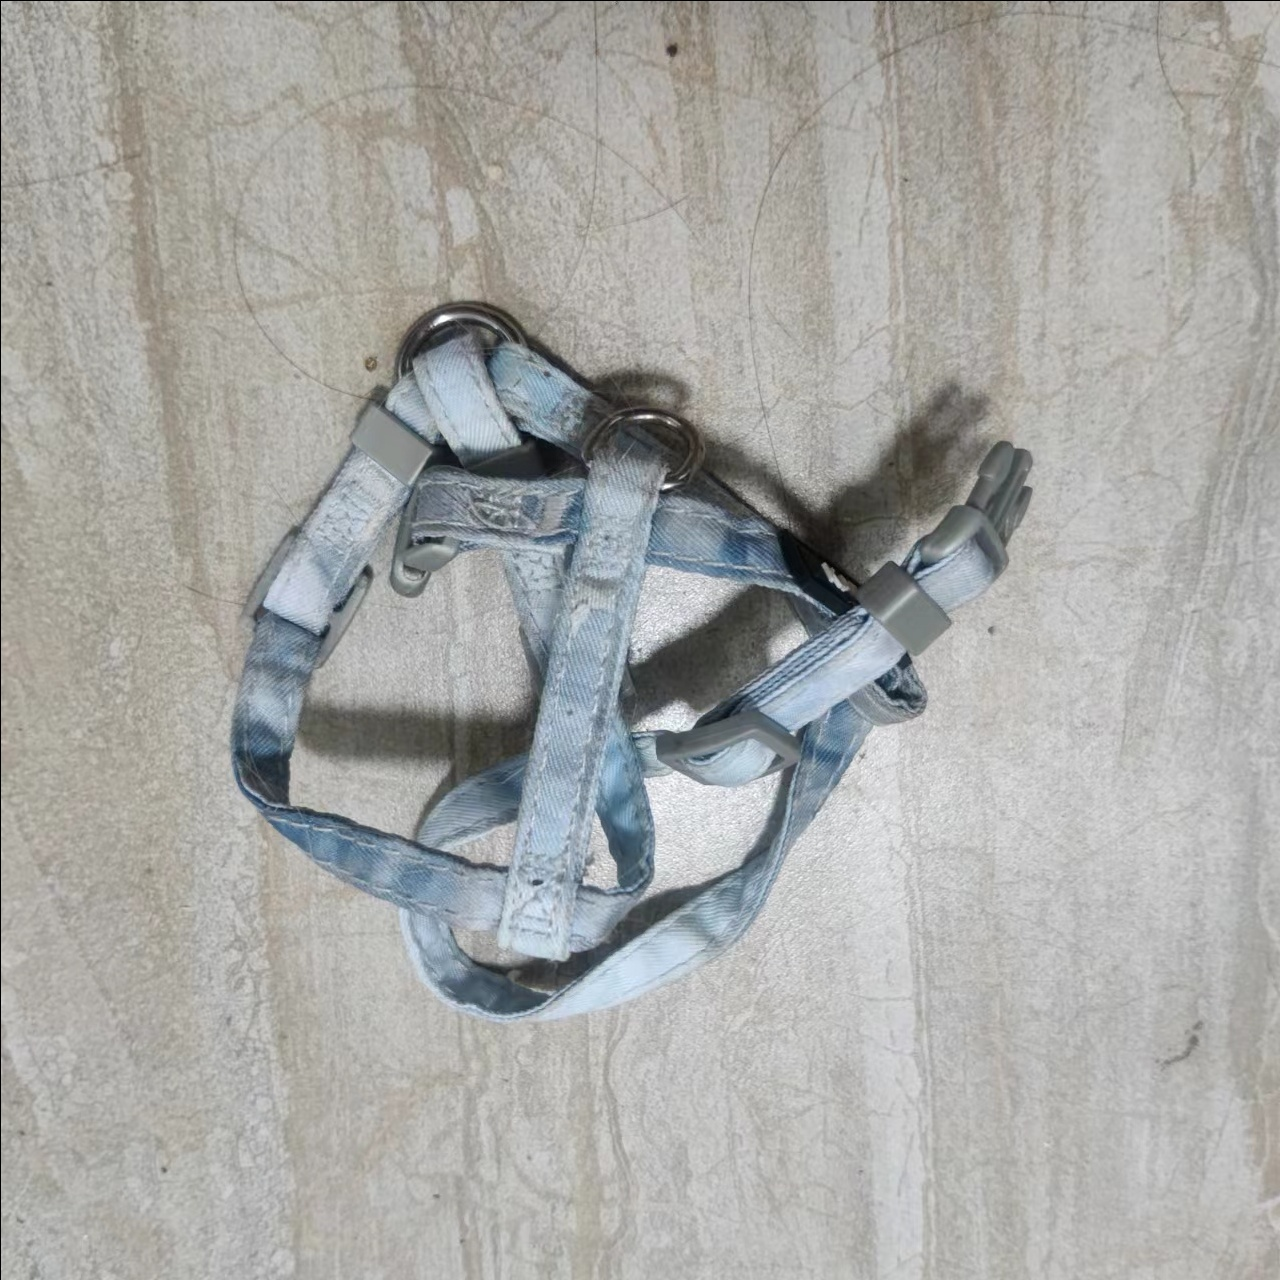9/可回收垃圾/绳子: (224, 302, 1033, 1023)
